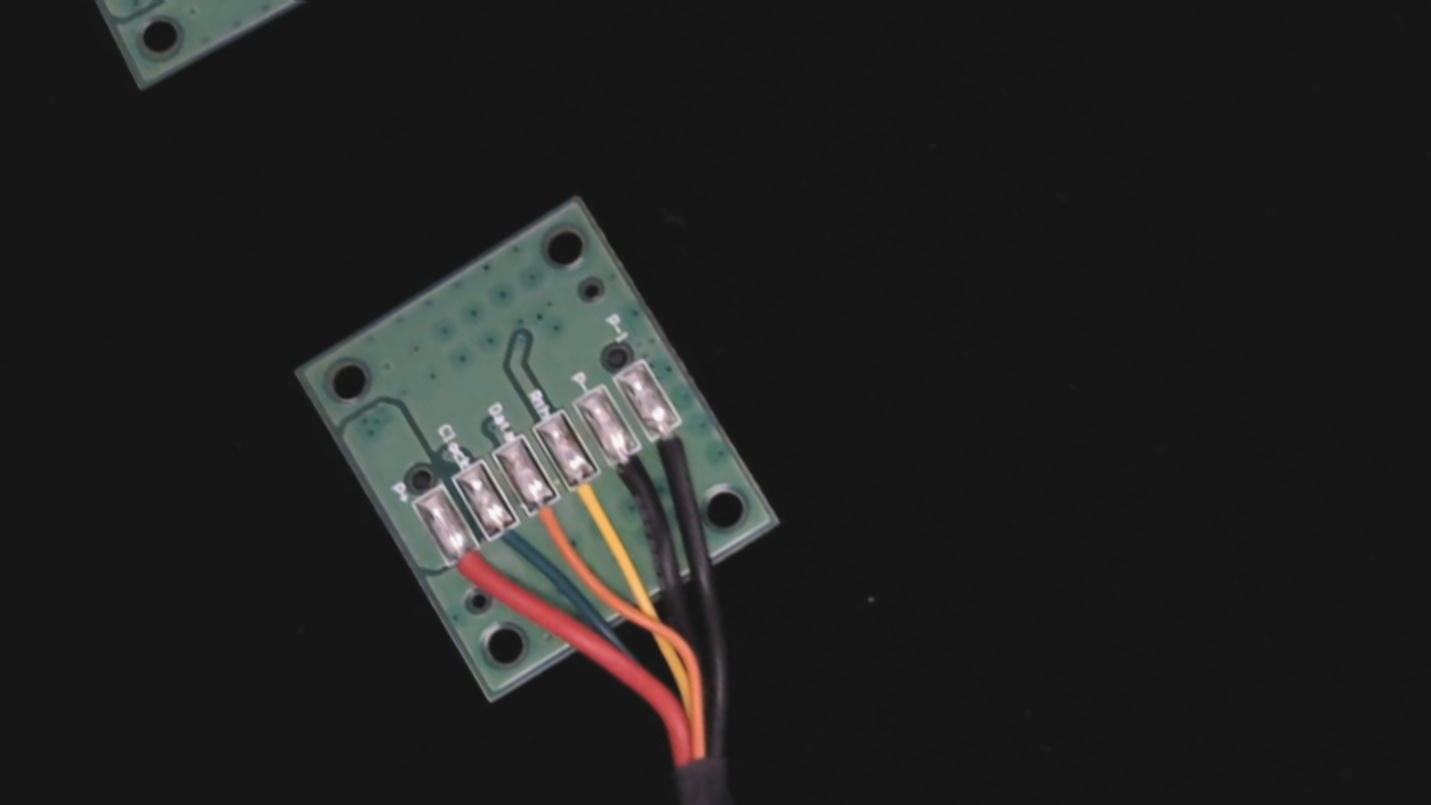Black: (594, 429, 670, 513)
Black1: (636, 403, 710, 483)
Green: (470, 502, 546, 587)
Orange: (511, 478, 584, 561)
Red: (431, 524, 515, 617)
Yellow: (552, 452, 630, 537)
